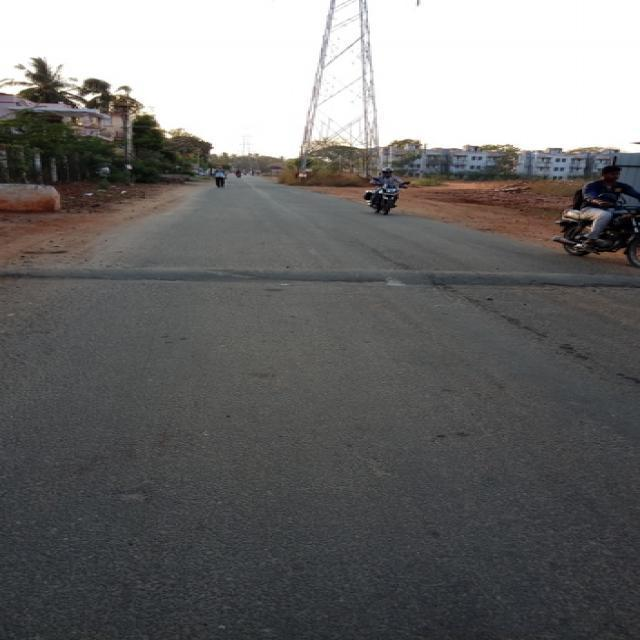NonMarked Bump: (25, 255, 612, 302)
